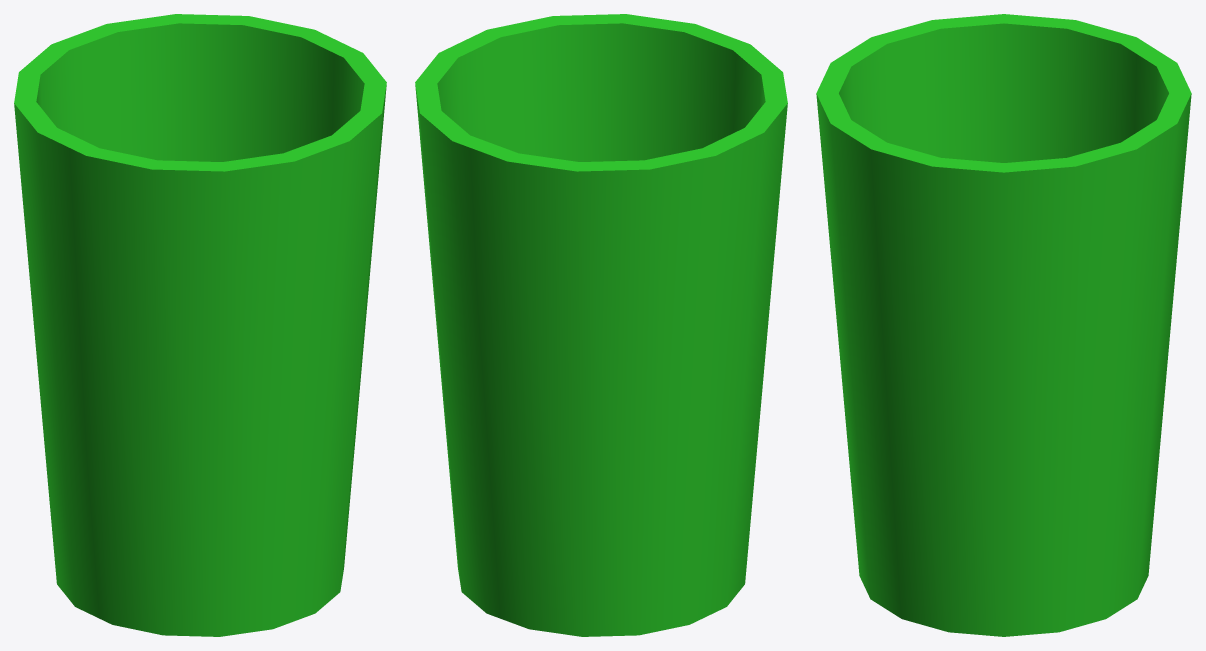
File: green_cup.fbx
3 renders of one model, left to right at view 1: azimuth 30°, elevation 25°; view 2: azimuth 150°, elevation 25°; view 3: azimuth 270°, elevation 25°, orthographic.
Visible parts, largest first — view 1: Cylinder.001; view 2: Cylinder.001; view 3: Cylinder.001.
Boxes of the visible parts, x1=… form: Cylinder.001: x1=14, y1=14, x2=386, y2=636; Cylinder.001: x1=415, y1=14, x2=787, y2=636; Cylinder.001: x1=816, y1=14, x2=1191, y2=636.
Bounding box in the file's own units: 14.8 × 21 × 14.8.
